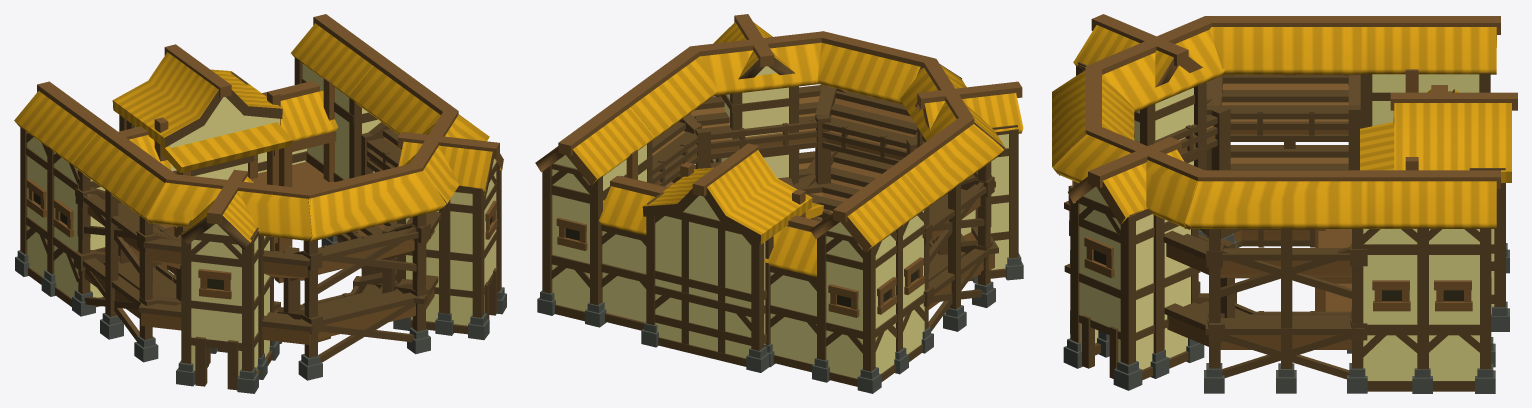
File: theater.fbx
3 renders of one model, left to right at view 1: azimuth 30°, elevation 25°; view 2: azimuth 150°, elevation 25°; view 3: azimuth 270°, elevation 25°, orthographic. The views are drawn at different scales.
Visible parts, largest first — view 1: polySurface687; view 2: polySurface687; view 3: polySurface687.
Boxes of the visible parts, x1,y1,x2,y2 form: polySurface687: [14, 14, 506, 393]; polySurface687: [535, 14, 1023, 393]; polySurface687: [1052, 14, 1517, 393].
Size of the model in its own units: 307 by 166 by 318.
1 material, 1 textured.
